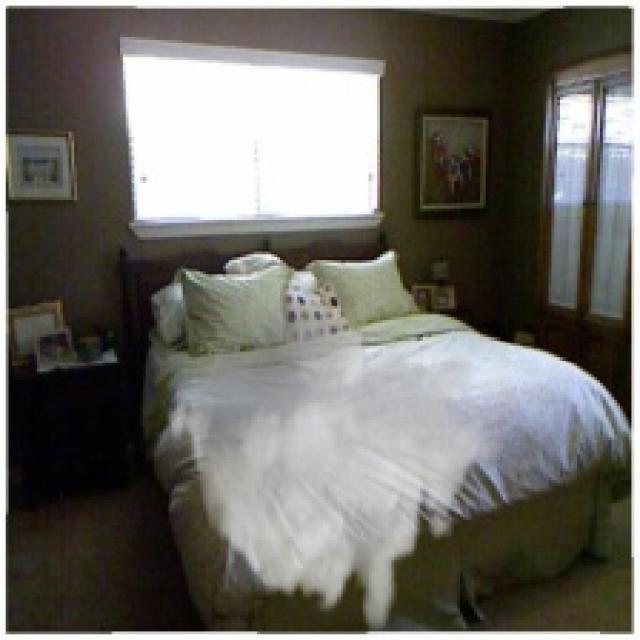Smoke: (163, 288, 506, 638)
